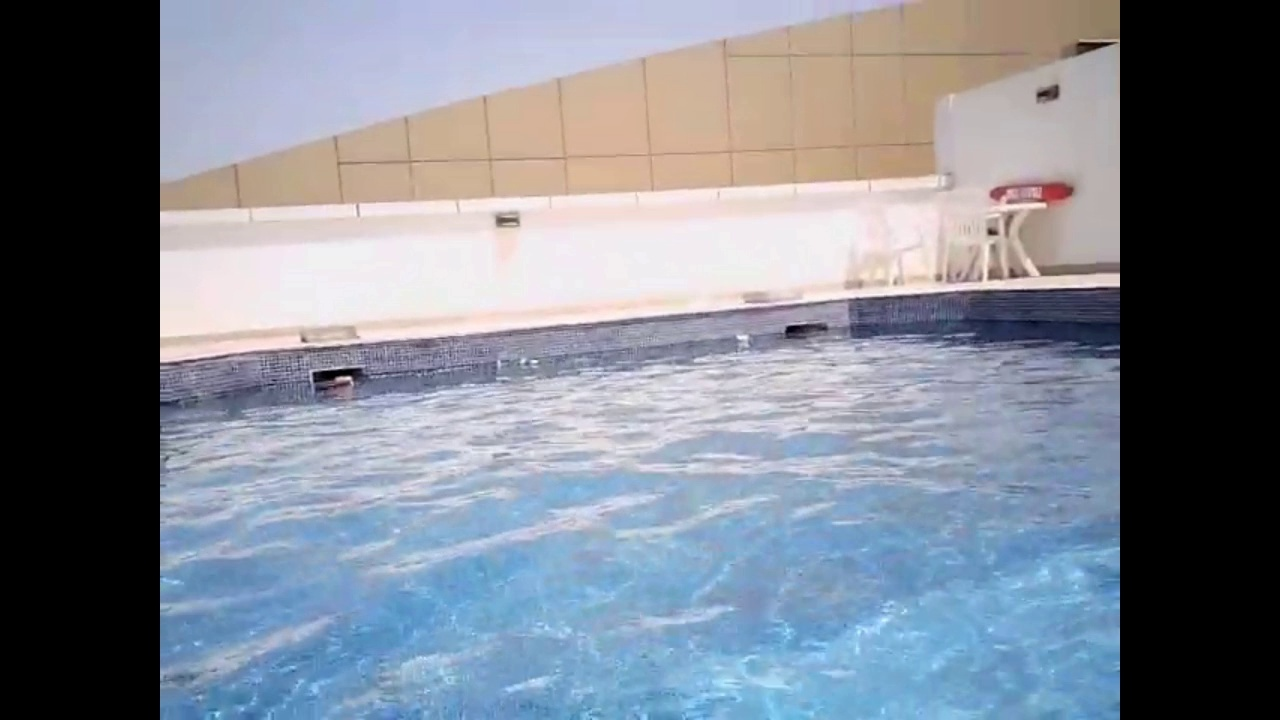debris: (329, 372, 359, 391), (517, 355, 542, 372), (730, 331, 754, 347)
